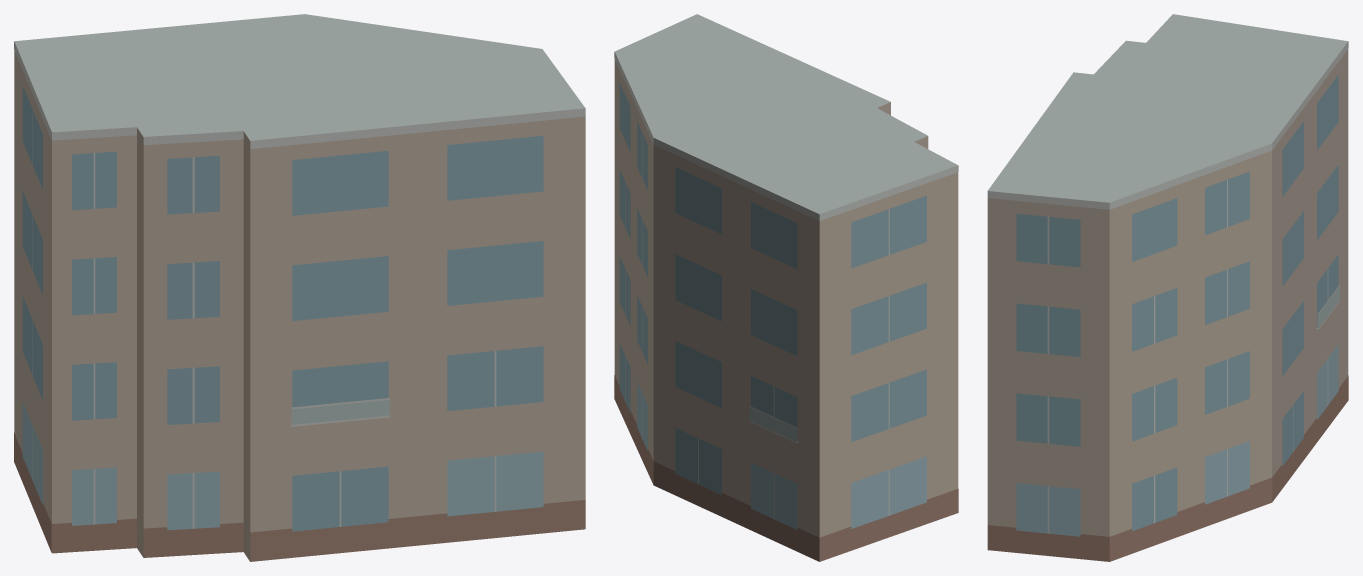
File: survey-upis-32490639.glb
3 renders of one model, left to right at view 1: azimuth 30°, elevation 25°; view 2: azimuth 150°, elevation 25°; view 3: azimuth 270°, elevation 25°, orthographic. The views are drawn at different scales.
Parts seen in each view (by area): view 1: survey-upis-32490639.tmp; view 2: survey-upis-32490639.tmp; view 3: survey-upis-32490639.tmp.
Part boxes in pixels (box(x1,y1,x2,y2)): survey-upis-32490639.tmp: box(14, 14, 585, 561); survey-upis-32490639.tmp: box(614, 14, 958, 561); survey-upis-32490639.tmp: box(987, 14, 1348, 561).
Bounding box in the file's own units: 14.02 × 12.43 × 11.33.
